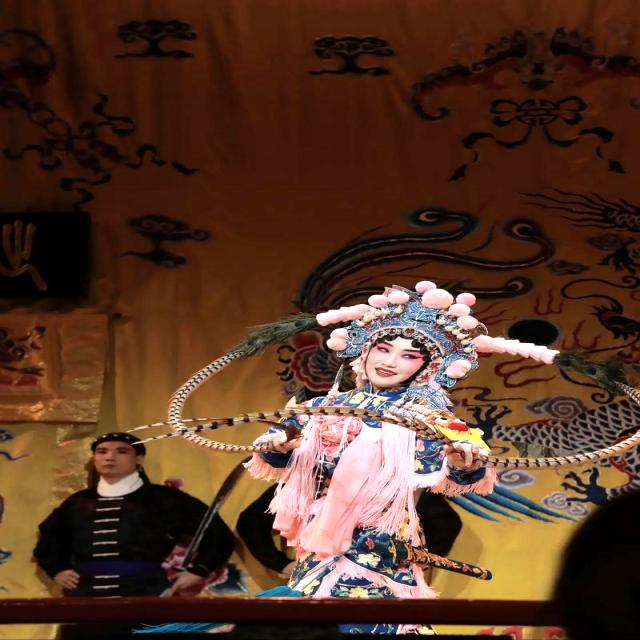Reeves-s Pheasant: (138, 316, 459, 454), (481, 430, 639, 467), (559, 360, 639, 406)
